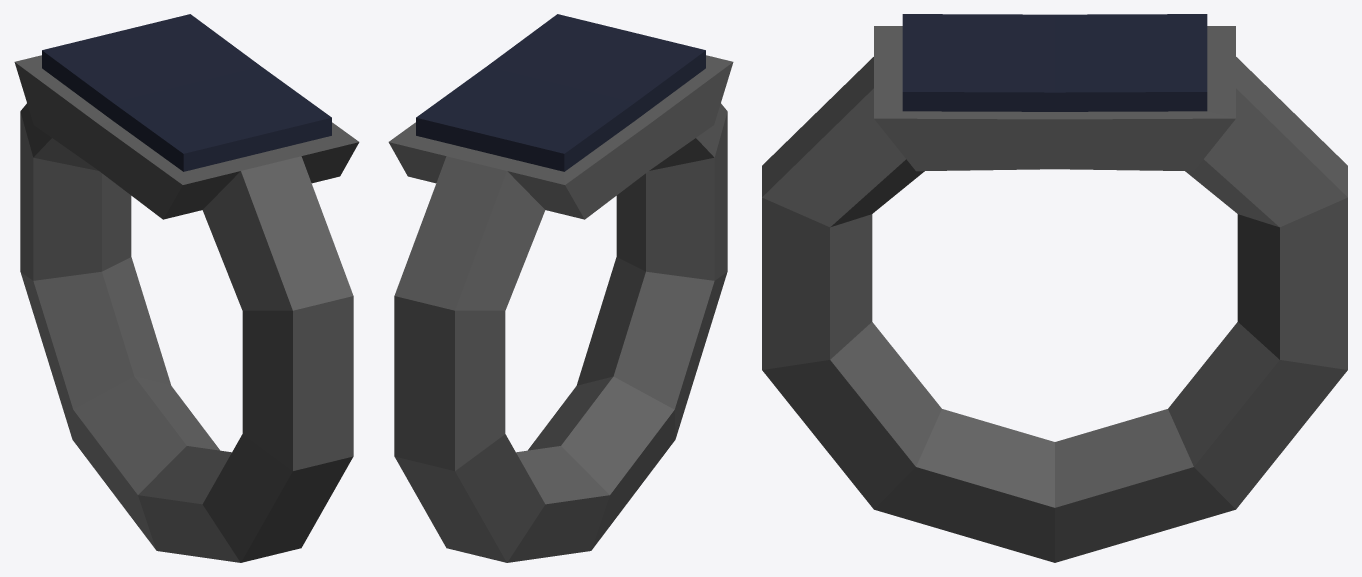
The model's file is Watch.fbx.
3 renders of one model, left to right at view 1: azimuth 30°, elevation 25°; view 2: azimuth 150°, elevation 25°; view 3: azimuth 270°, elevation 25°, orthographic. The views are drawn at different scales.
Visible parts, largest first — view 1: pTorus1; view 2: pTorus1; view 3: pTorus1.
Boxes of the visible parts, x1,y1,x2,y2 form: pTorus1: (14, 14, 359, 562); pTorus1: (388, 14, 733, 562); pTorus1: (762, 14, 1347, 562).
Bounding box in the file's own units: 0.8578 × 2.13 × 2.29.
